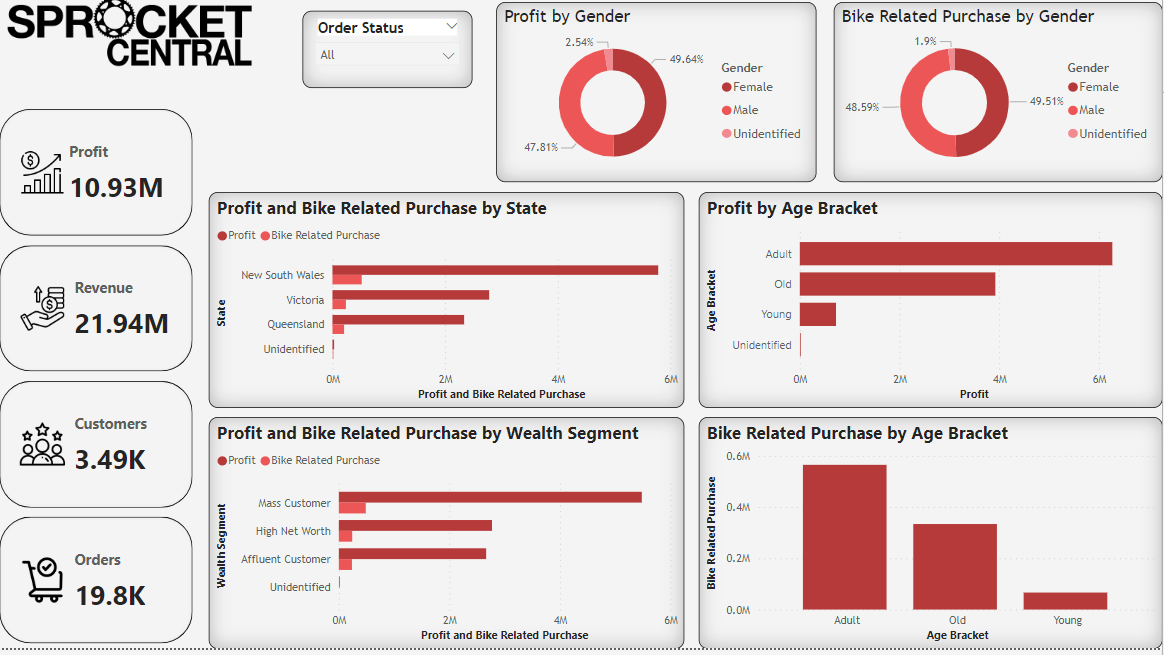

The page's visual inventory and layout, read from the dashboard file:
{"tool":"powerbi","page":{"name":"Page 1","canvas":[1280,720],"ordinal":0},"visuals":[{"type":"donutChart","fields":{"Category":["Merged Worksheet.gender"],"Y":["Sum(Merged Worksheet.Profit)"]},"box":[549.8,11,351,197.4],"z":0},{"type":"donutChart","fields":{"Category":["Merged Worksheet.gender"],"Y":["Sum(Merged Worksheet.past_3_years_bike_related_purchases)"]},"box":[920,11,360.6,197.4],"z":1000},{"type":"clusteredBarChart","fields":{"Category":["Merged Worksheet.wealth_segment"],"Y":["Sum(Merged Worksheet.Profit)","Sum(Merged Worksheet.past_3_years_bike_related_purchases)"]},"box":[234.7,465.7,522,254.3],"z":2000},{"type":"clusteredBarChart","fields":{"Category":["Merged Worksheet.state"],"Y":["Sum(Merged Worksheet.Profit)","Sum(Merged Worksheet.past_3_years_bike_related_purchases)"]},"box":[234.7,220,522,237.1],"z":3000},{"type":"image","box":[120.7,298.9,69.9,61.7],"z":4000},{"type":"cardVisual","fields":{"Data":["Sum(Merged Worksheet.Profit)","Sum(Merged Worksheet.list_price)","Count(Merged Worksheet.full_name)","Count(Merged Worksheet.transaction_id)"]},"box":[0,123.4,222.1,596.4],"z":5000},{"type":"slicer","fields":{"Values":["Merged Worksheet.order_status"]},"box":[337.3,20.6,186.5,85],"z":6000},{"type":"image","box":[0,0,301.9,105.1],"z":7000},{"type":"clusteredBarChart","fields":{"Category":["Merged Worksheet.Age_Bracket"],"Y":["Sum(Merged Worksheet.Profit)"]},"box":[771.3,220,508.5,237.1],"z":8000},{"type":"clusteredColumnChart","fields":{"Y":["Sum(Merged Worksheet.past_3_years_bike_related_purchases)"],"Category":["Merged Worksheet.Age_Bracket"]},"box":[771.3,465.7,508.5,254.3],"z":9000},{"type":"actionButton","title":"Page 2","box":[301.6,123.4,172.8,54.8],"z":9001}]}

Visuals, with their boxes in screenshot pixels (x1, y1, x2, y2), scaled from the page's 1280x720 canvas onto the 1164x655 screenshot:
donutChart - Merged Worksheet.gender x Sum(Merged Worksheet.Profit): 500 10 819 190
donutChart - Merged Worksheet.gender x Sum(Merged Worksheet.past_3_years_bike_related_purchases): 837 10 1163 190
clusteredBarChart - Merged Worksheet.wealth_segment x Sum(Merged Worksheet.Profit): 213 424 688 654
clusteredBarChart - Merged Worksheet.state x Sum(Merged Worksheet.Profit): 213 200 688 416
image: 110 272 173 328
cardVisual - Sum(Merged Worksheet.Profit) x Sum(Merged Worksheet.list_price): 0 112 202 654
slicer - Merged Worksheet.order_status: 307 19 476 96
image: 0 0 275 96
clusteredBarChart - Merged Worksheet.Age_Bracket x Sum(Merged Worksheet.Profit): 701 200 1163 416
clusteredColumnChart - Sum(Merged Worksheet.past_3_years_bike_related_purchases) x Merged Worksheet.Age_Bracket: 701 424 1163 654
"Page 2" actionButton: 274 112 431 162
